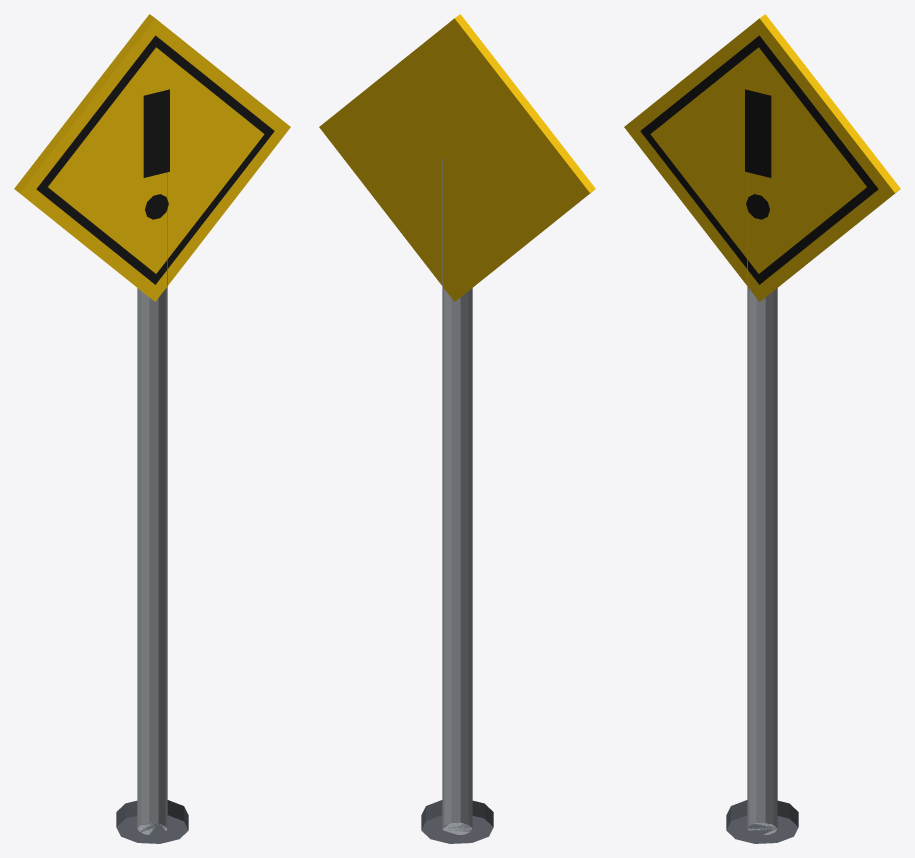
File: sign-warning.glb
3 renders of one model, left to right at view 1: azimuth 30°, elevation 25°; view 2: azimuth 150°, elevation 25°; view 3: azimuth 330°, elevation 25°, orthographic.
Visible parts, largest first — view 1: sign-warning; view 2: sign-warning; view 3: sign-warning.
Boxes of the visible parts, x1,y1,x2,y2 form: sign-warning: (14,14,290,843); sign-warning: (319,14,595,843); sign-warning: (624,14,900,843).
Size of the model in its own units: 0.93 by 2.66 by 0.2054.
